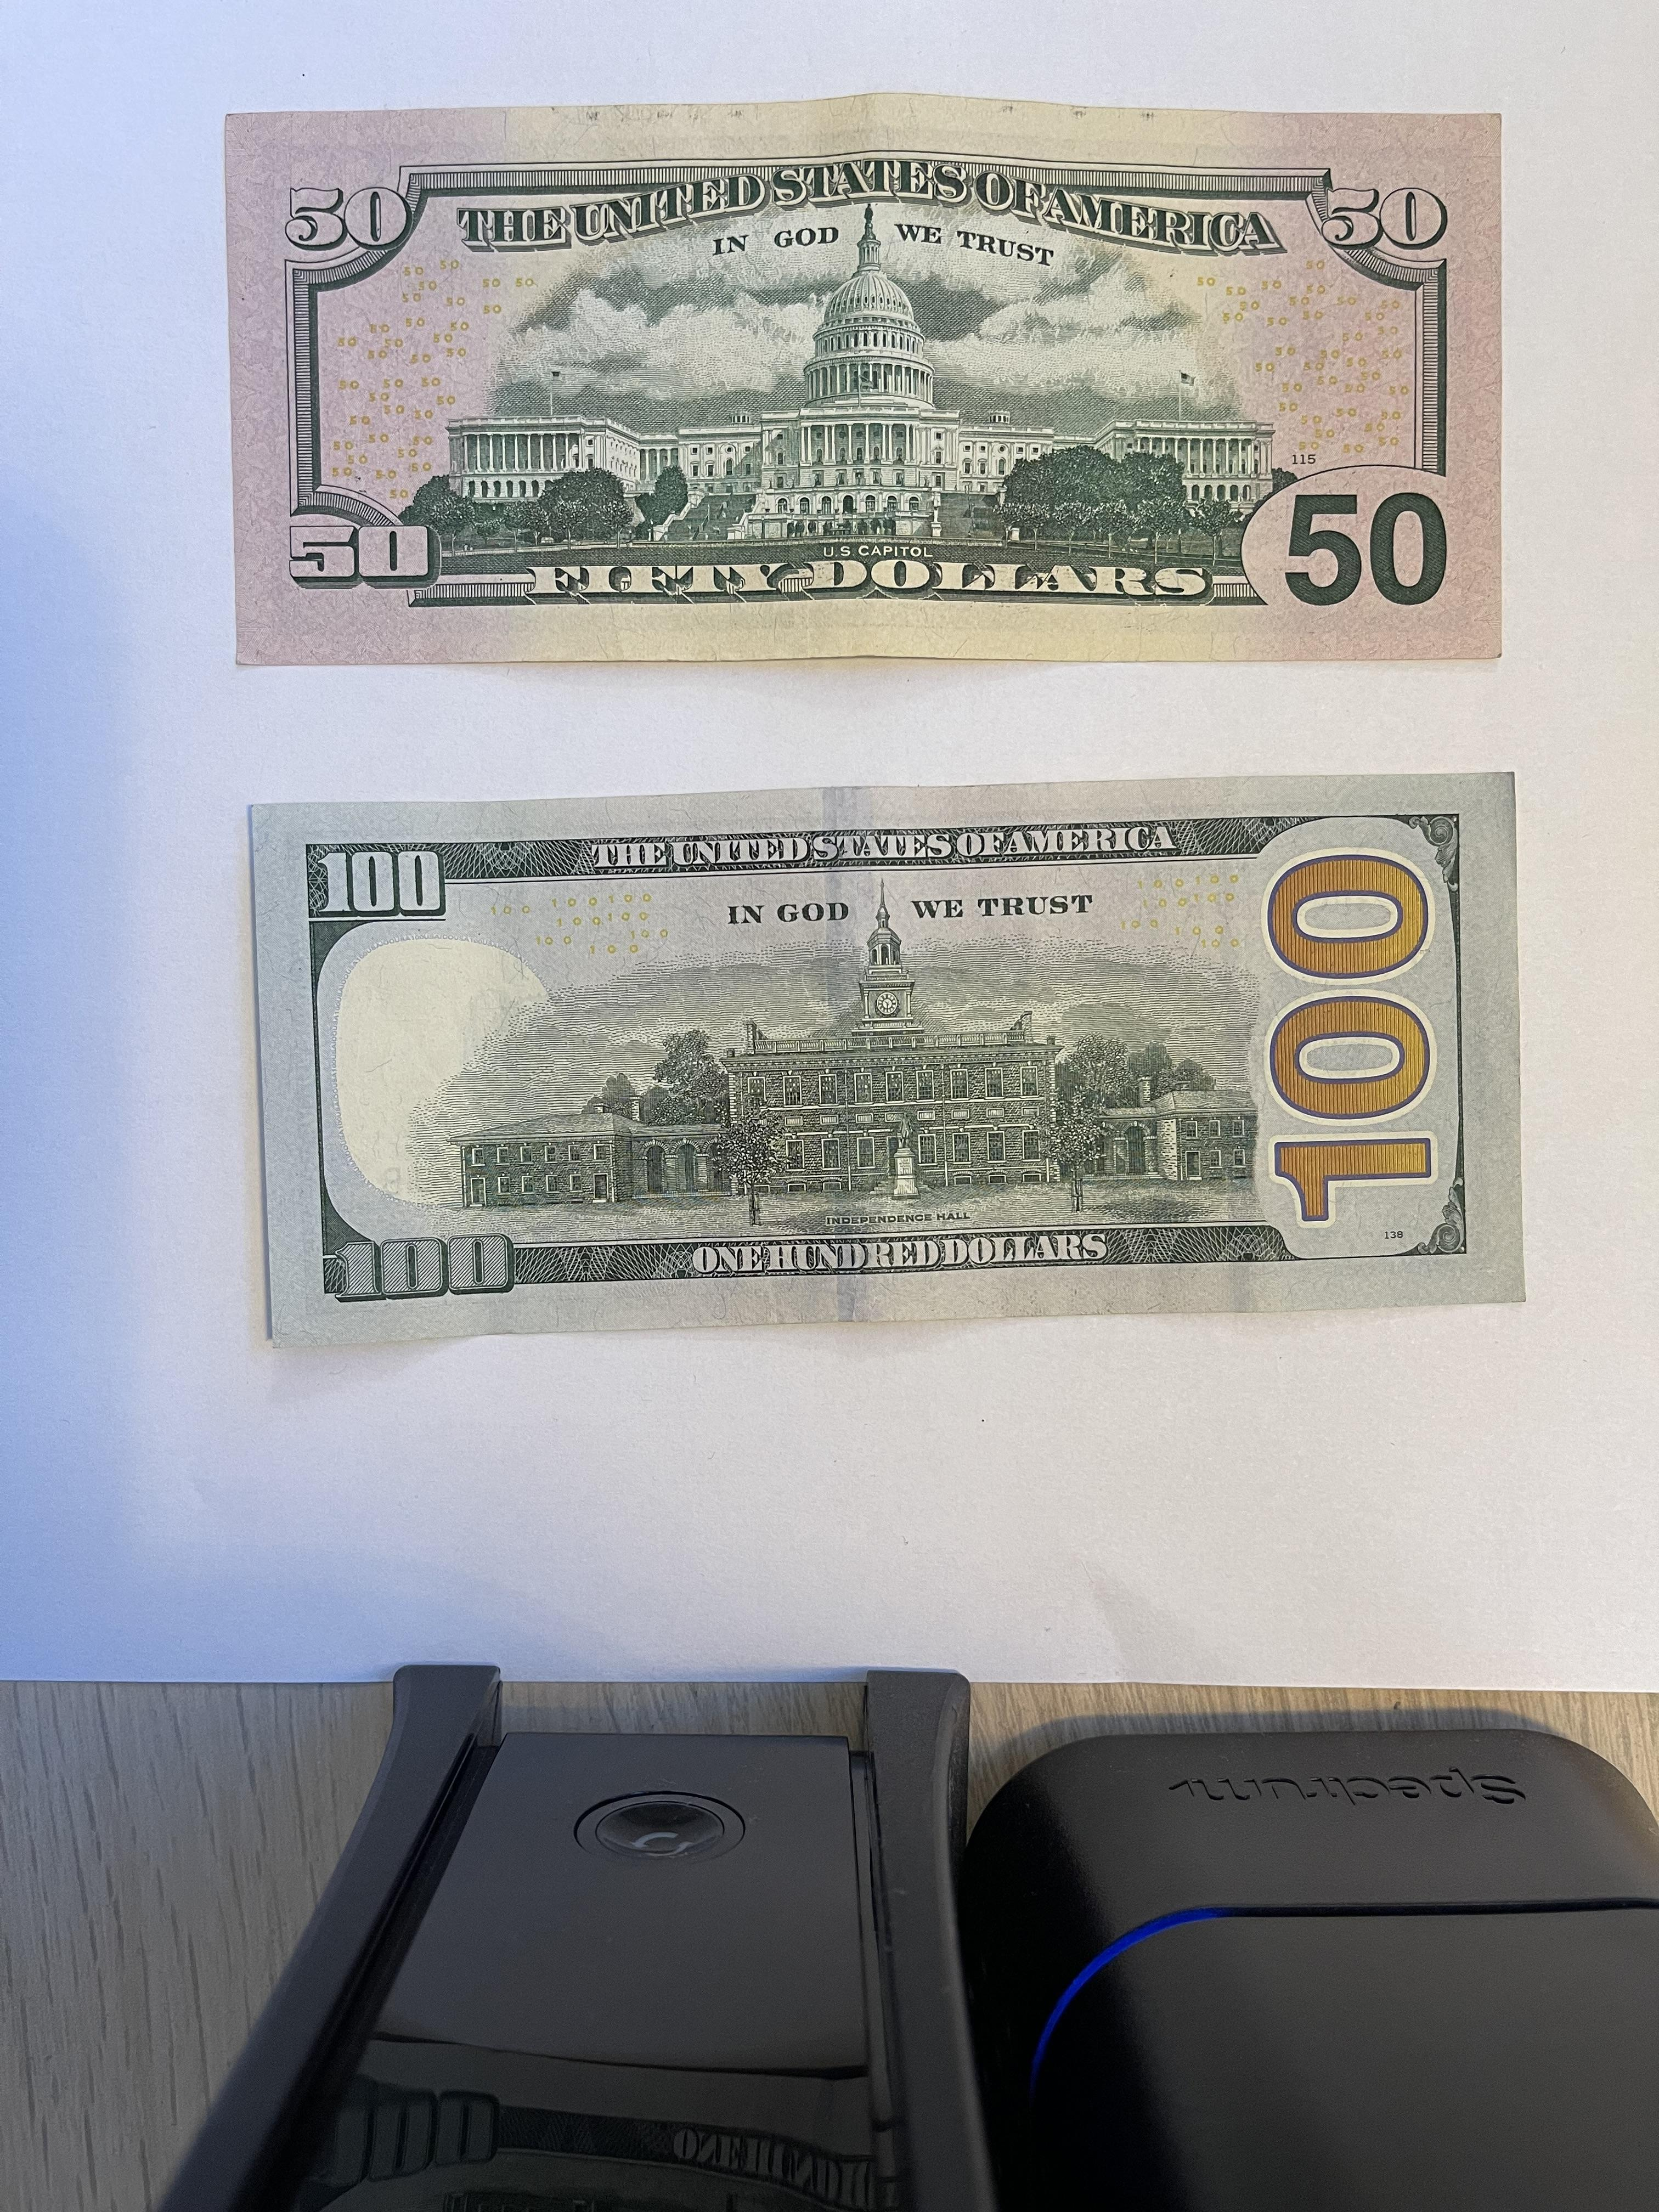FiftyBill: (221, 94, 1506, 671)
HundredBill: (244, 768, 1528, 1352)
